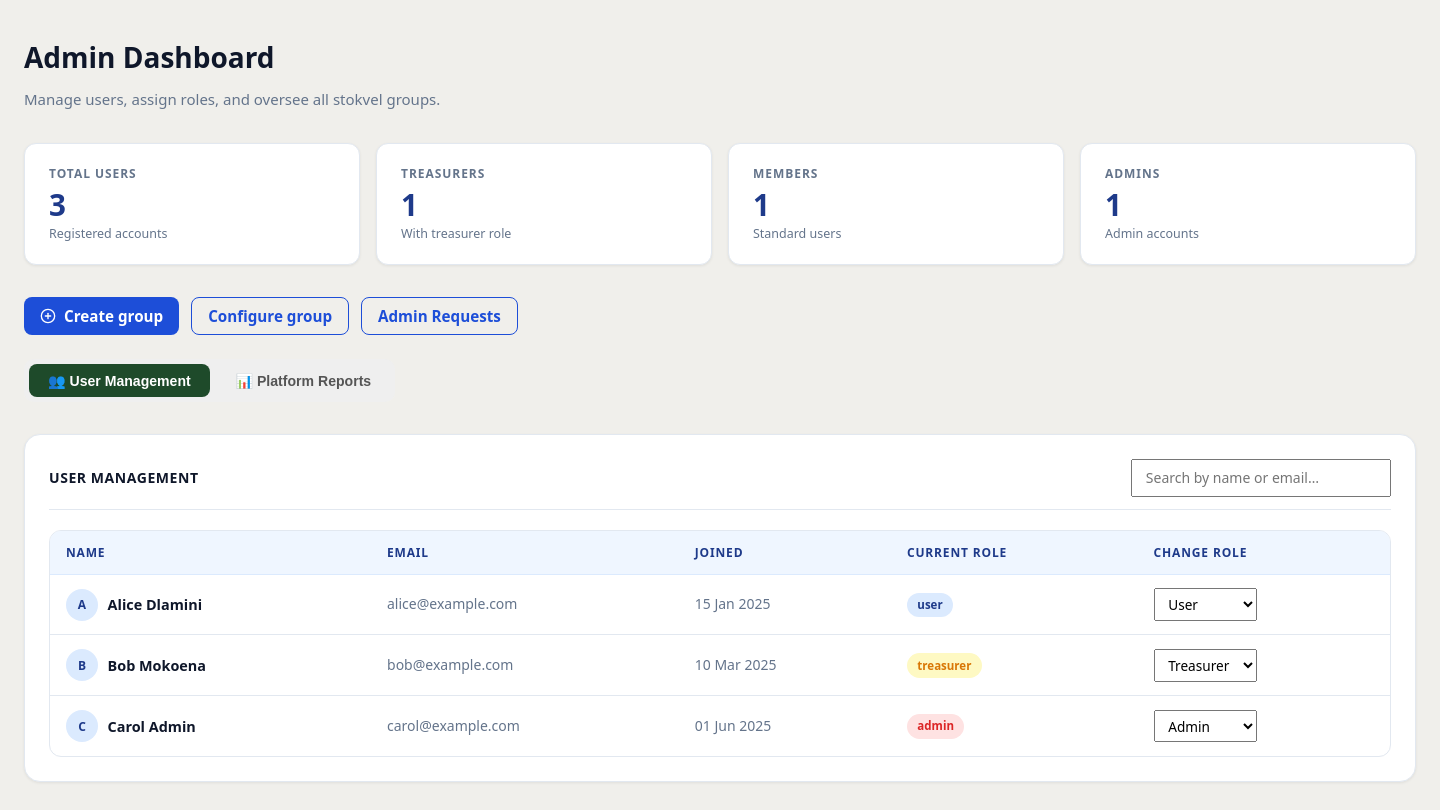
Scenario: AdminPage › Reports tab › shows loading state when fetching reports data
The width and height of the screenshot is (1440, 810).
Expected: the text "Alice Dlamini" is shown, 108,595 -> 202,614
Click the button "📊 Platform Reports": (303, 380) 216,364 -> 390,397
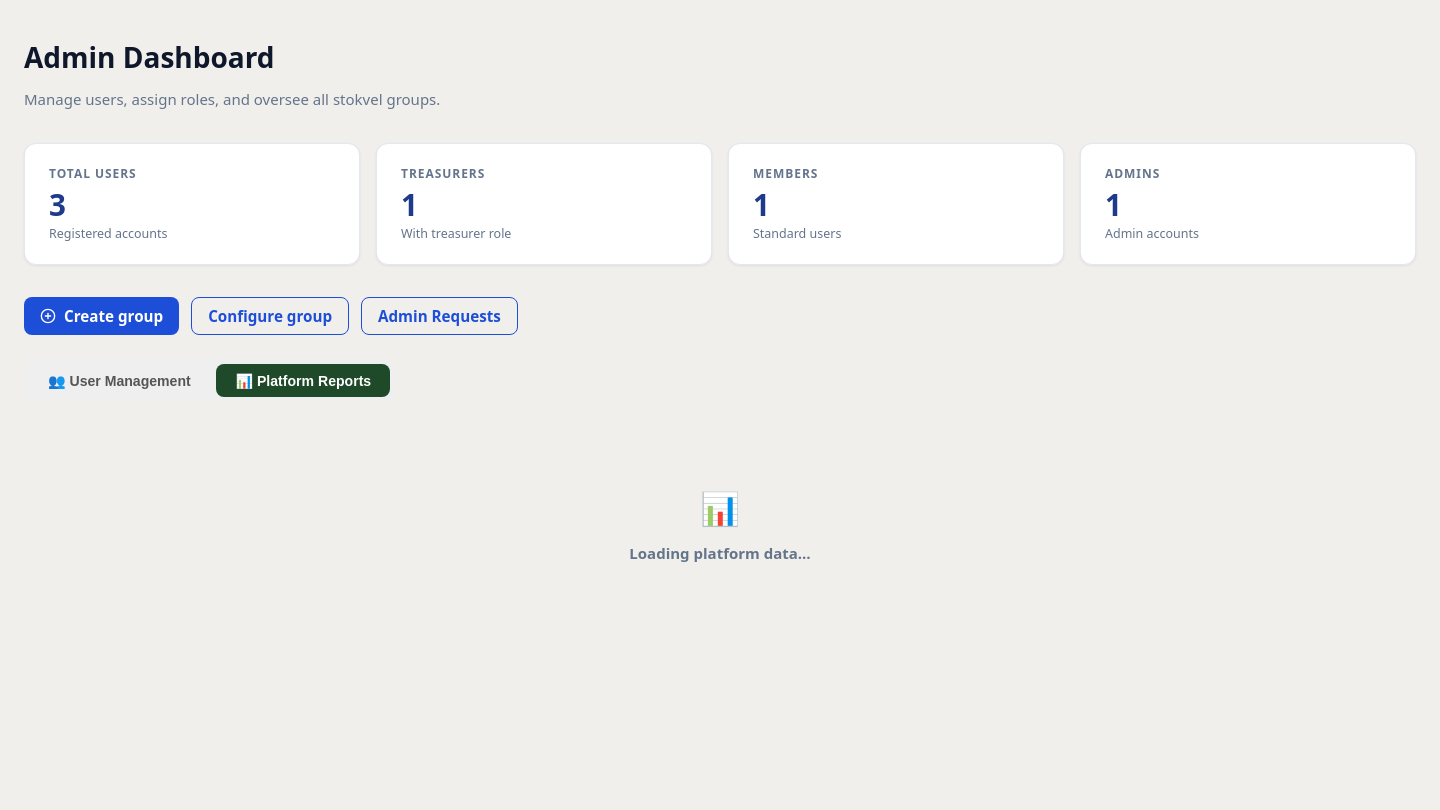
Result: the text "Loading platform data…" is shown at 629,543 -> 811,563
